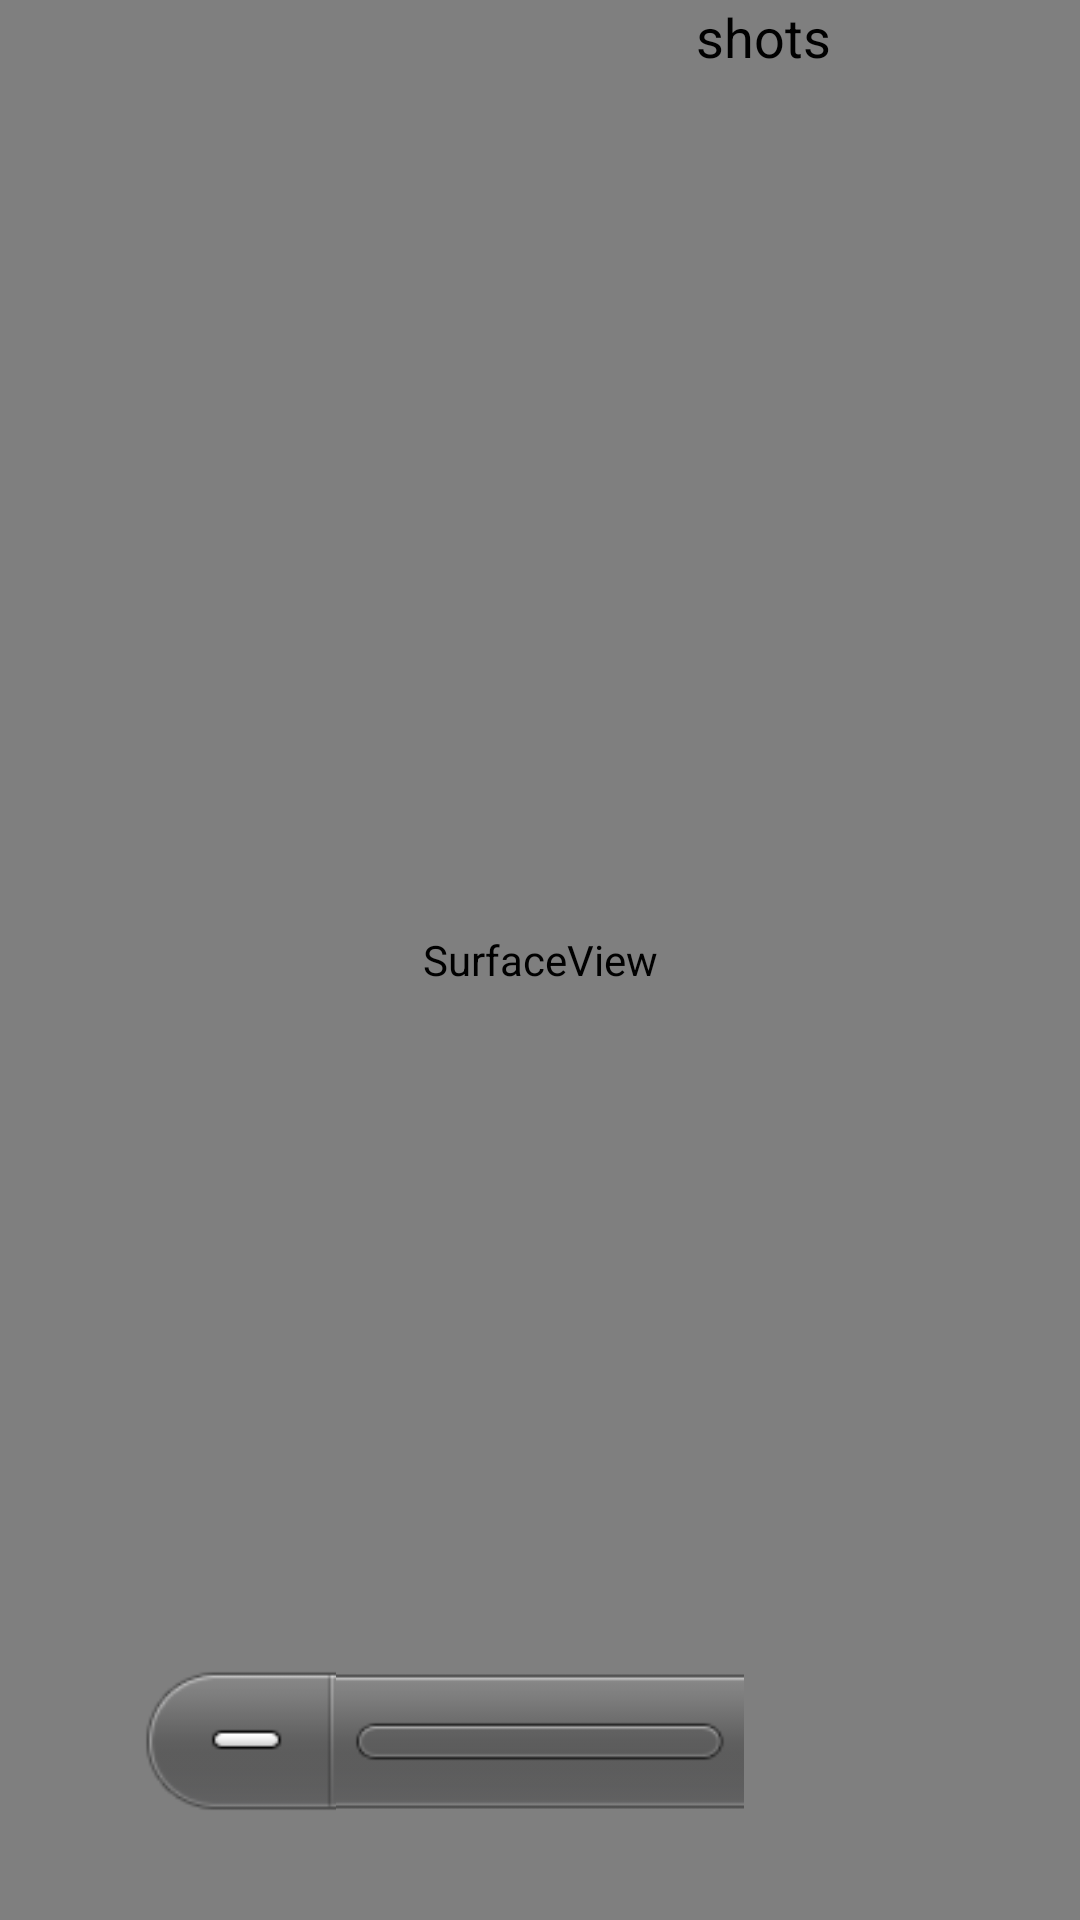

Locate icon controls on the screen. Image size 1080px×1920px, boxes as (x1, y1, x2, y2).
custom zoom out: (146, 1672, 336, 1810)
